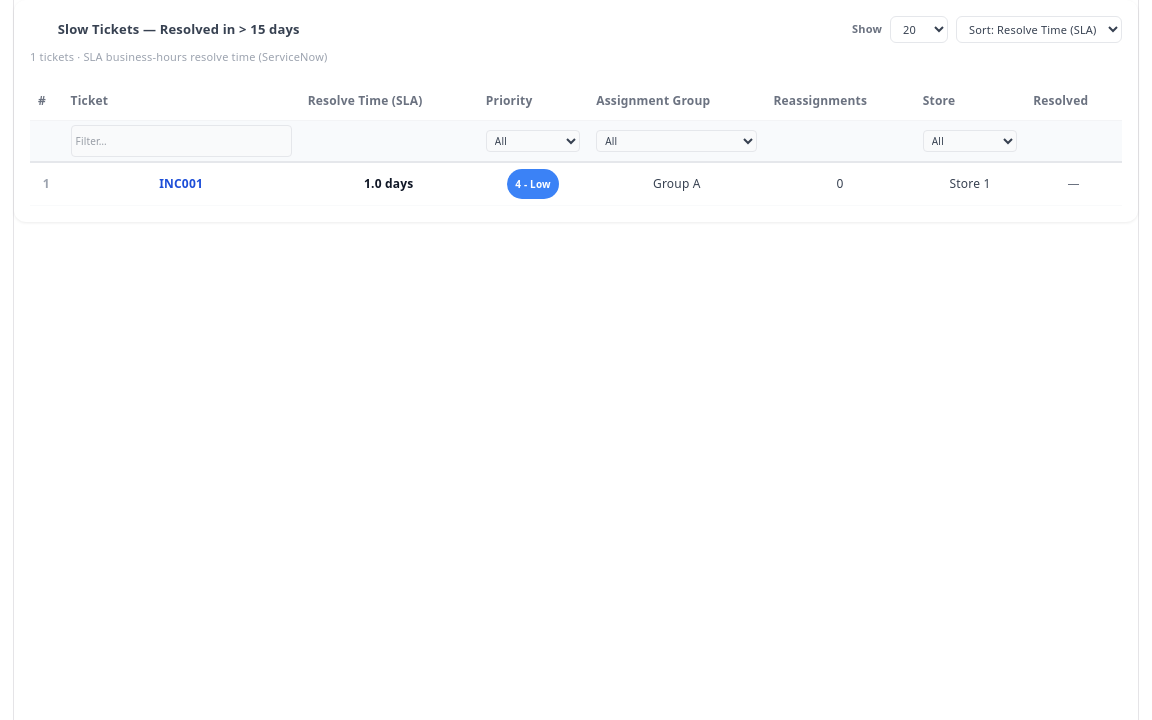
Test: Top20SlowTickets › shows "No tickets match" message when filters return zero rows
The image size is (1152, 720).
Type "NOMATCH" into the field with placeholder "Filter…". click: point(181, 141)
box: [71,125,292,157]
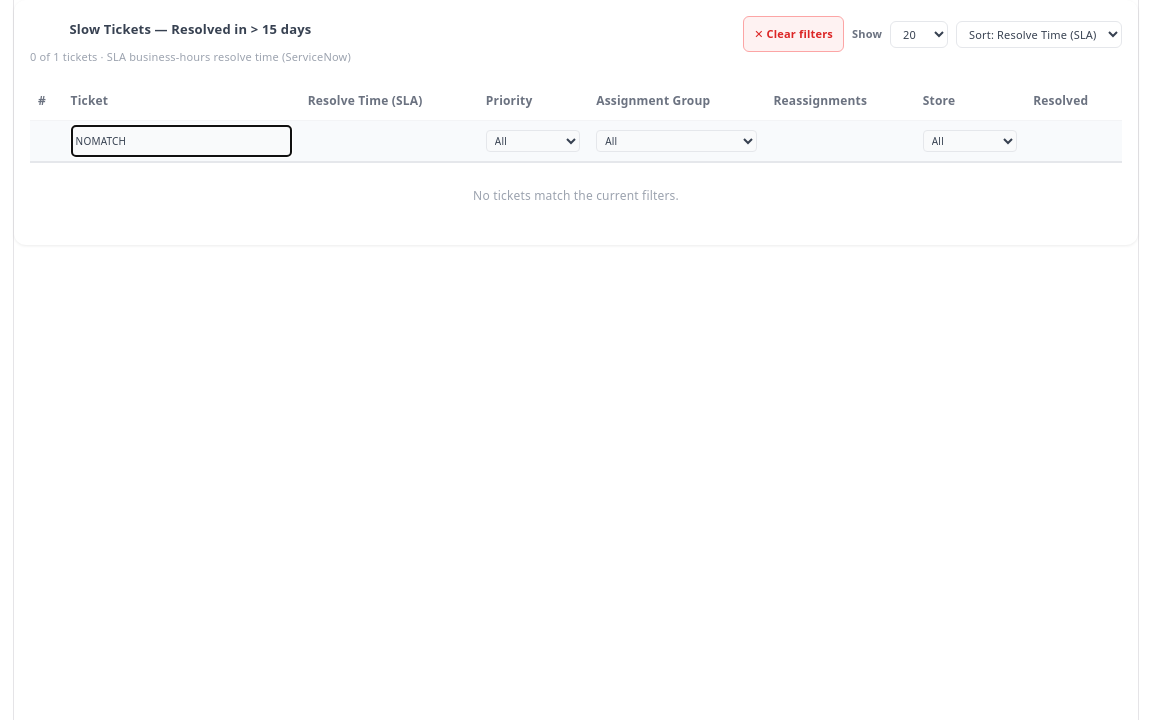
Expected: the text "No tickets match the current filters." is shown, [30,162,1122,230]
